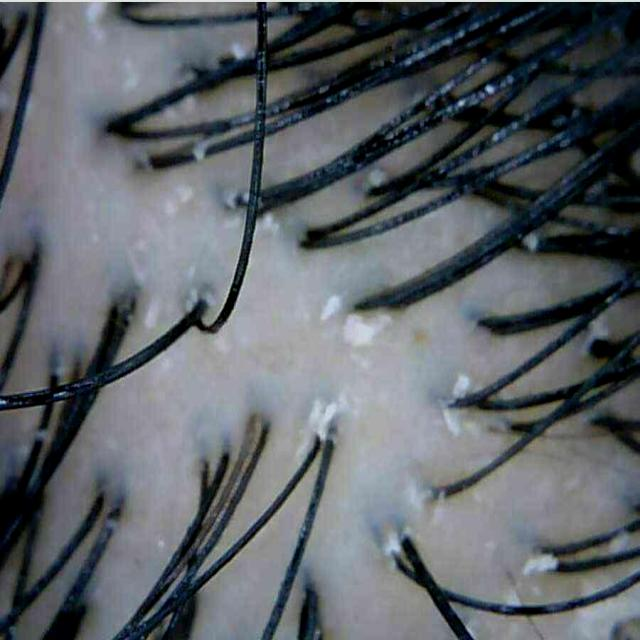d: (295, 398, 341, 462), (344, 312, 391, 346), (585, 315, 609, 353), (522, 553, 559, 576), (364, 168, 388, 192), (320, 295, 342, 320), (442, 409, 462, 436), (452, 372, 470, 399), (521, 230, 539, 255), (192, 140, 206, 162)
